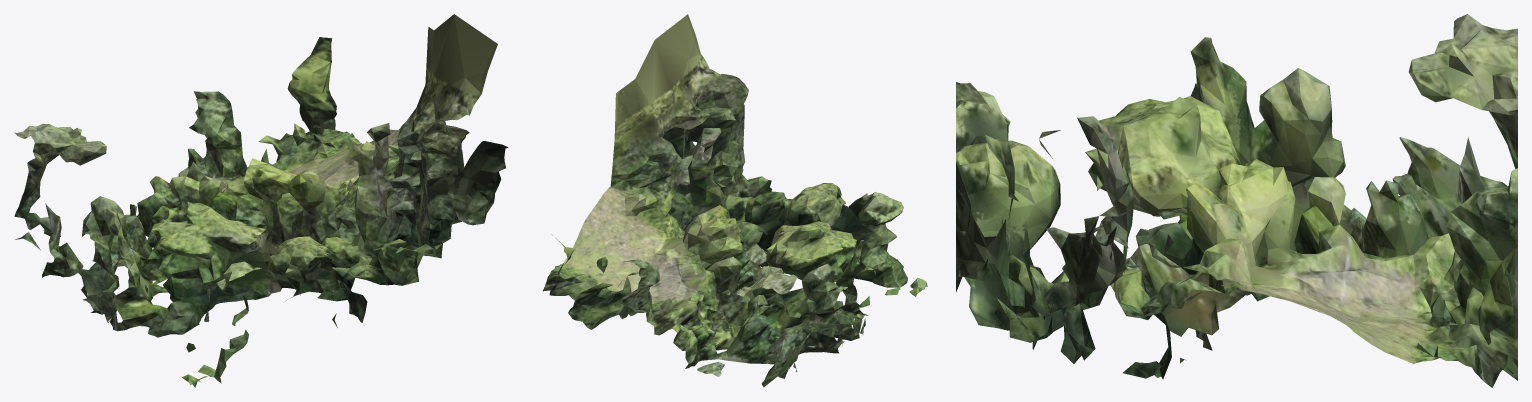
The picture shows the model from 3 angles, left to right: view 1: azimuth 30°, elevation 25°; view 2: azimuth 150°, elevation 25°; view 3: azimuth 270°, elevation 25°; orthographic projection. The views are drawn at different scales.
Size of the model in its own units: 52.22 by 43.33 by 52.22.
6 materials, 6 textured.
